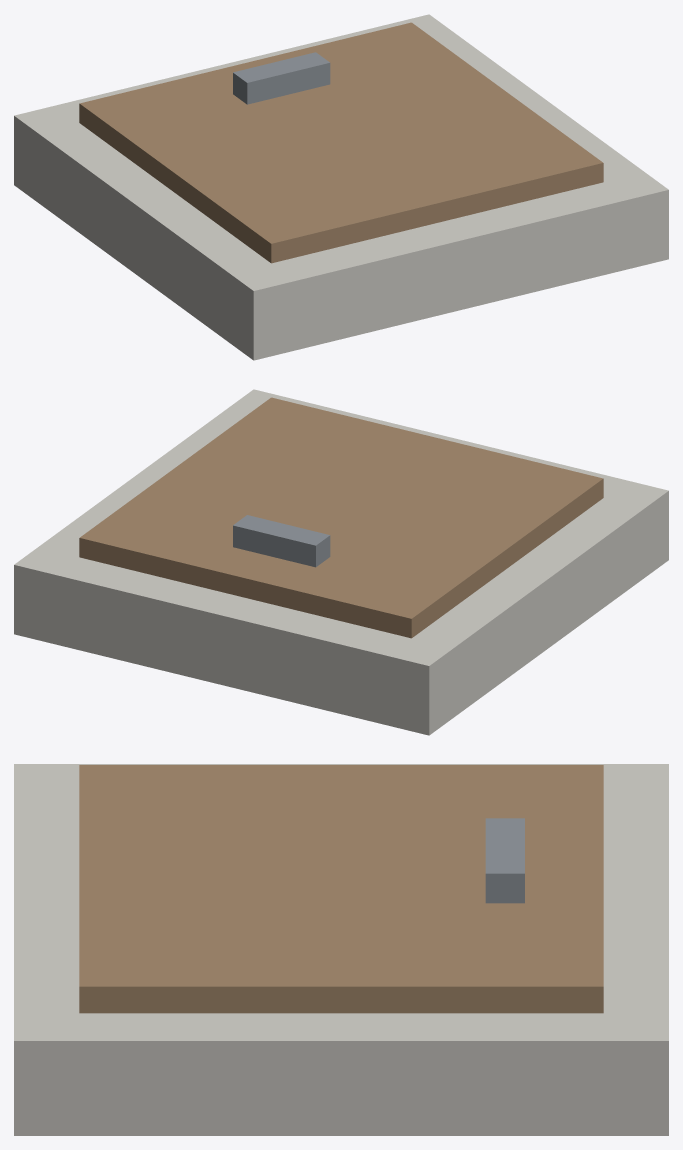
File: attic_hatch.glb
3 views of the same model, one above another, from view 1: azimuth 30°, elevation 25°; view 2: azimuth 150°, elevation 25°; view 3: azimuth 270°, elevation 25° (orthographic). The views are drawn at different scales.
Parts seen in each view (by area): view 1: world; view 2: world; view 3: world.
Part boxes in pixels (x1,y1,x2,y2): world: (14, 14, 668, 360); world: (14, 389, 668, 735); world: (14, 764, 668, 1135).
Size of the model in its own units: 1 by 0.255 by 1.
